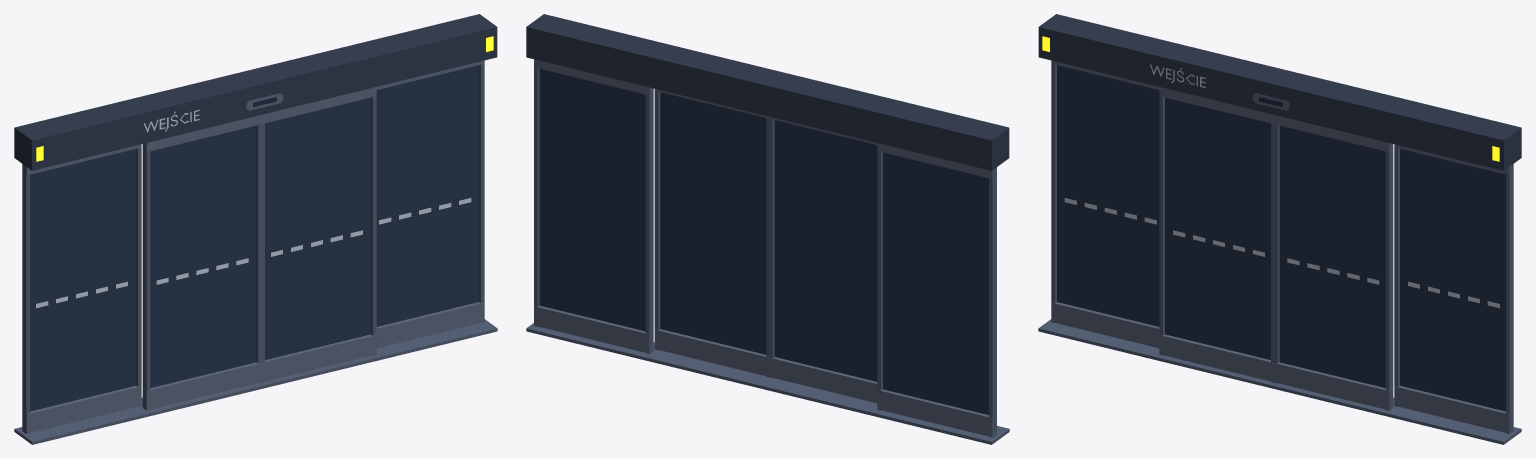
File: mall_entrance_doors.glb
3 views of the same model, side by side, from view 1: azimuth 30°, elevation 25°; view 2: azimuth 150°, elevation 25°; view 3: azimuth 330°, elevation 25° (orthographic).
Parts seen in each view (by area): view 1: tempered_leaf, header, aluminium_stile, door_rail, lettering; view 2: tempered_leaf, header, aluminium_stile, door_rail; view 3: tempered_leaf, header, aluminium_stile, door_rail, lettering.
Part boxes in pixels (x1,y1,x2,y2): tempered_leaf: (30, 65, 478, 411); header: (14, 14, 497, 170); aluminium_stile: (14, 61, 497, 444); door_rail: (26, 60, 484, 433); lettering: (36, 109, 471, 308); tempered_leaf: (539, 69, 988, 414); header: (526, 14, 1009, 170); aluminium_stile: (526, 59, 1009, 444); door_rail: (534, 59, 992, 437); tempered_leaf: (1057, 65, 1505, 411); header: (1038, 14, 1521, 170); aluminium_stile: (1038, 61, 1521, 444); door_rail: (1051, 60, 1509, 433); lettering: (1064, 64, 1499, 308).
Size of the model in its own units: 4.8 by 3 by 0.32.
